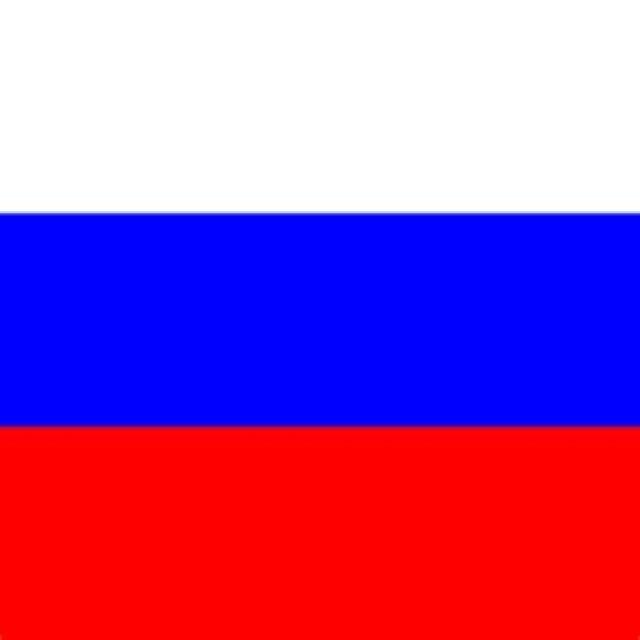russia: (7, 4, 640, 617)
